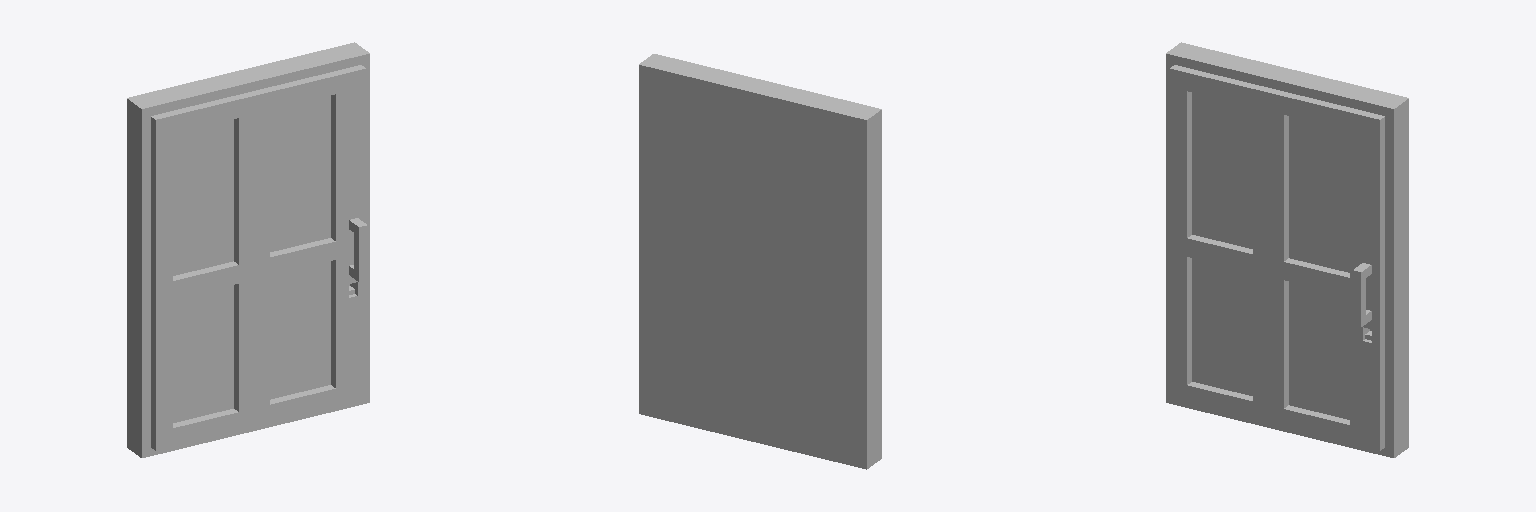
File: door.obj
3 views of the same model, side by side, from view 1: azimuth 30°, elevation 25°; view 2: azimuth 150°, elevation 25°; view 3: azimuth 330°, elevation 25° (orthographic).
Parts seen in each view (by area): view 1: door; view 2: door; view 3: door.
Part boxes in pixels (x1,y1,x2,y2): door: (127,42,369,457); door: (639,54,881,469); door: (1166,42,1408,457).
Bounding box in the file's own units: 52 × 76 × 12.